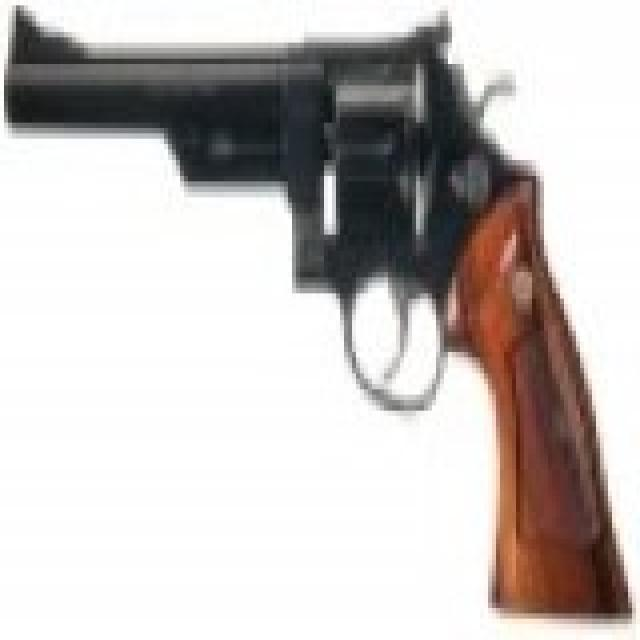gun: (4, 0, 628, 603)
